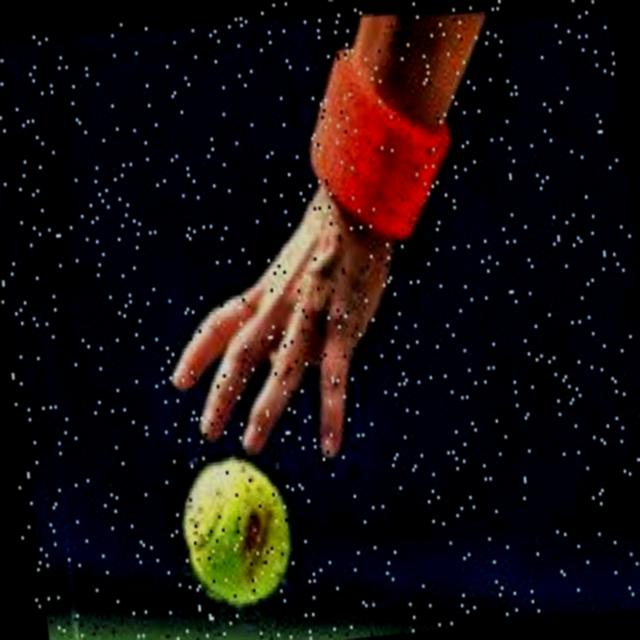tennis-ball: (166, 441, 302, 619)
